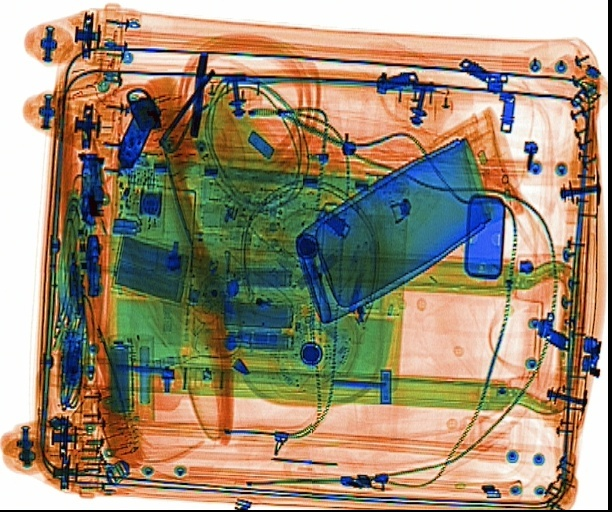powerbank: (107, 226, 237, 318)
